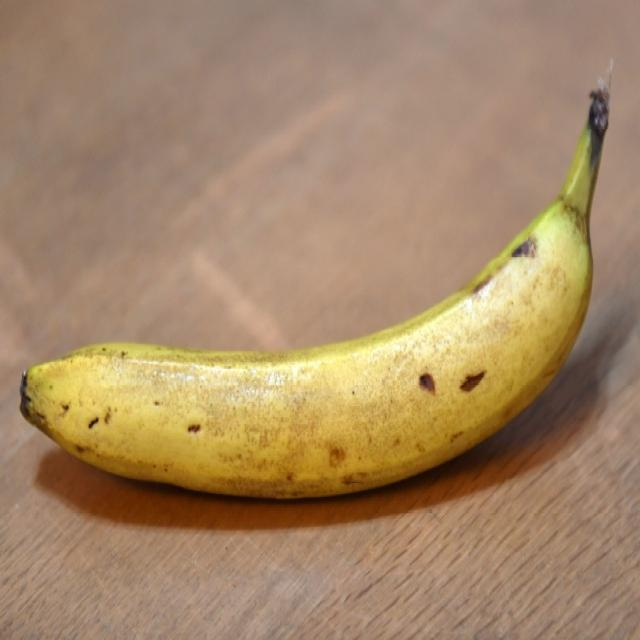Banana: (13, 75, 617, 500)
